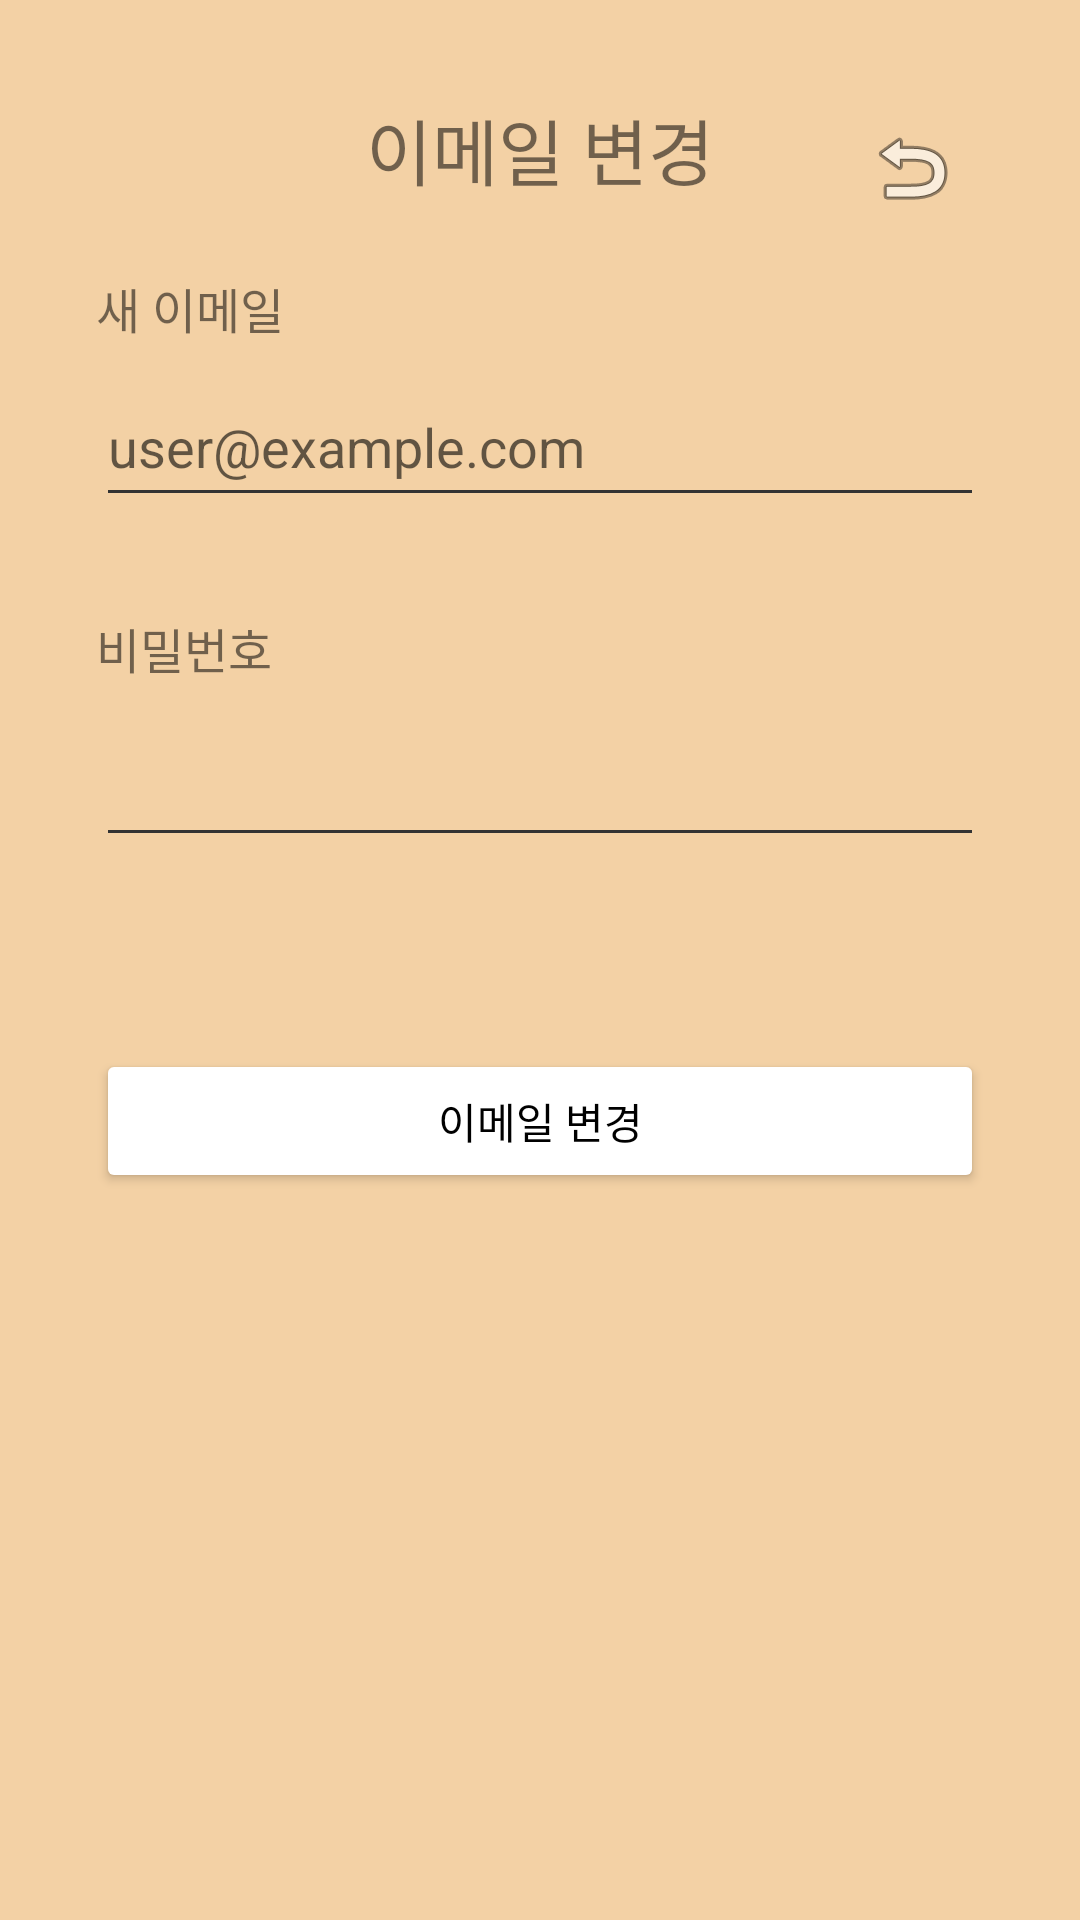

Icon bounding boxes for this 1080 × 1920 phone screenshot, format (x1=x1, y1=y1, x2=x2, y2=y2):
뒤로가기: (x1=879, y1=137, x2=948, y2=200)
